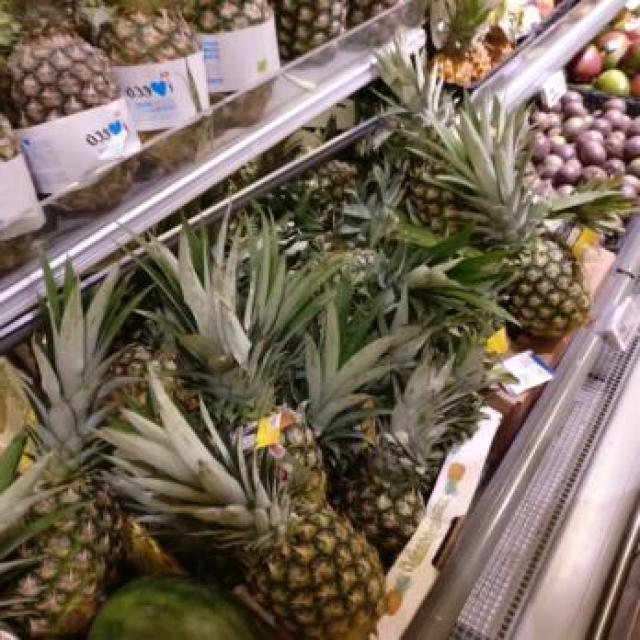pineapple: (100, 370, 384, 640), (381, 54, 590, 339), (150, 220, 325, 505), (0, 270, 130, 639), (332, 361, 469, 567), (0, 0, 119, 127), (186, 0, 279, 93), (98, 0, 196, 64), (432, 0, 493, 87), (274, 0, 346, 59), (406, 179, 459, 234), (484, 25, 514, 64)
